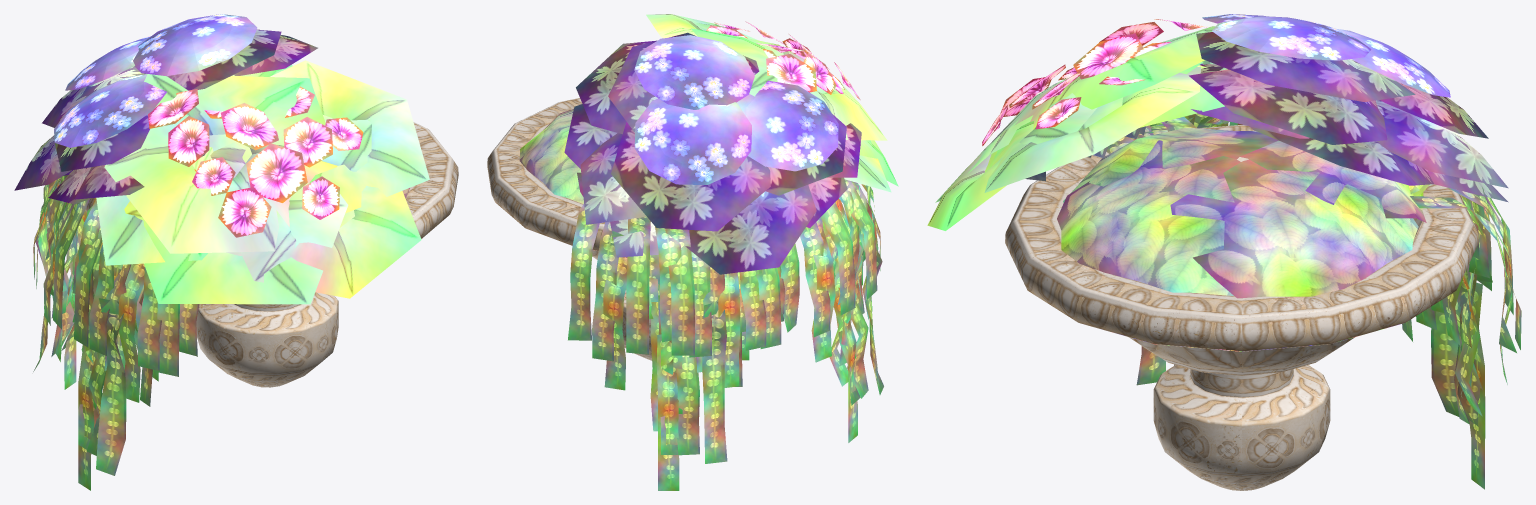
The model's file is smallbowl06_SM.fbx.
The picture shows the model from 3 angles, left to right: view 1: azimuth 30°, elevation 25°; view 2: azimuth 150°, elevation 25°; view 3: azimuth 270°, elevation 25°; orthographic projection. The views are drawn at different scales.
Visible parts, largest first — view 1: smallbowl06_SM_LOD0; view 2: smallbowl06_SM_LOD0; view 3: smallbowl06_SM_LOD0.
Part boxes in pixels (x1=…): smallbowl06_SM_LOD0: x1=14, y1=14, x2=458, y2=490; smallbowl06_SM_LOD0: x1=487, y1=14, x2=898, y2=490; smallbowl06_SM_LOD0: x1=927, y1=14, x2=1521, y2=490.
Size of the model in its own units: 173 by 194 by 178.
6 materials, 6 textured.
